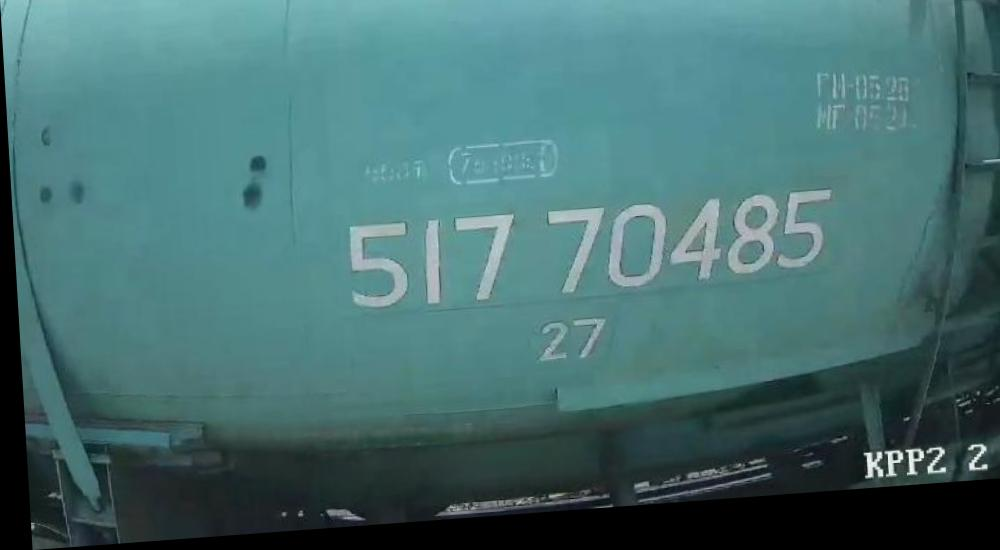Wagon-number: (339, 196, 834, 319)
